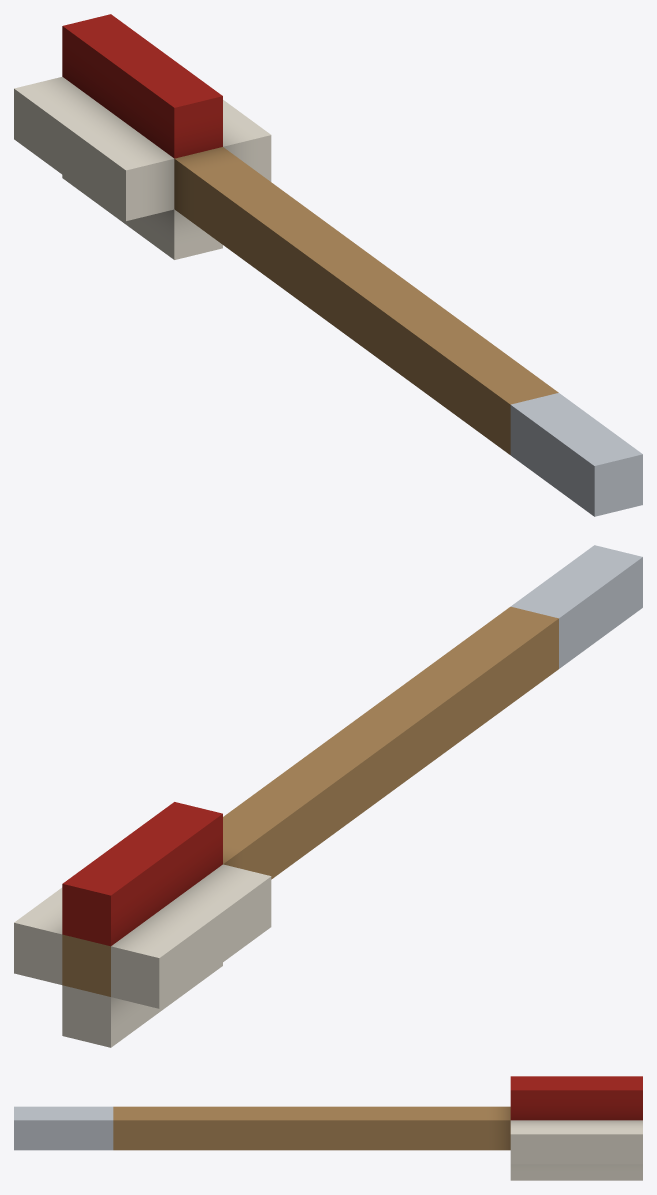
File: bolt.glb
3 renders of one model, top to bottom at view 1: azimuth 30°, elevation 25°; view 2: azimuth 150°, elevation 25°; view 3: azimuth 270°, elevation 25°, orthographic. The views are drawn at different scales.
Parts seen in each view (by area): view 1: bolt_body; view 2: bolt_body; view 3: bolt_body.
Boxes of the visible parts, <box> form: bolt_body: <box>14,14,642,516</box>; bolt_body: <box>14,545,642,1047</box>; bolt_body: <box>14,1076,642,1180</box>.
Size of the model in its own units: 0.1172 by 0.1172 by 0.7422.
Materials: 1 (1 with a texture image).
